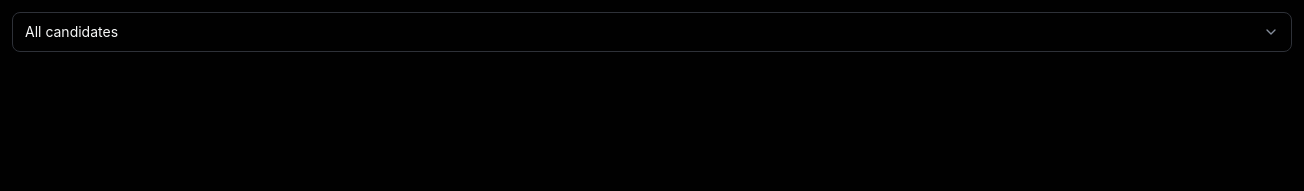
Filter select interactions › commits a selection and closes the popup
Press Enter in the dropdown, box [12,12,1292,52]
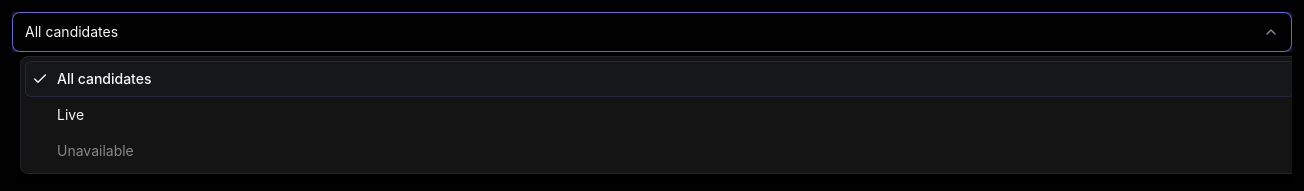
Click the option "Live" at (71, 114), box [57,106,84,123]
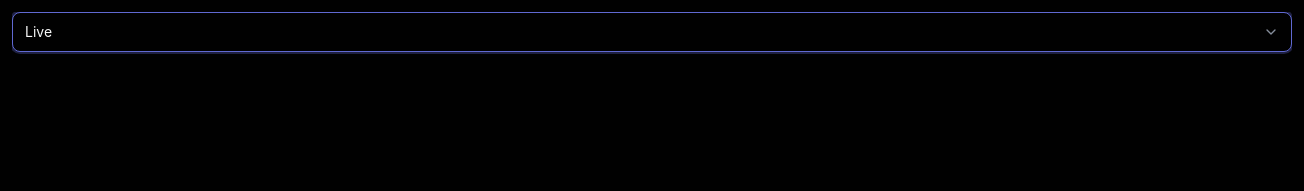
Expected: the dropdown reads "Live", [12,12,1292,52]
Expected: the dropdown is collapsed, [12,12,1292,52]
